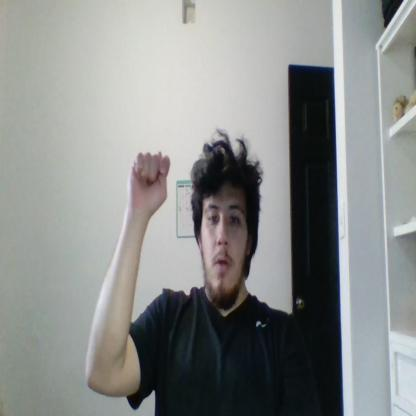T: (127, 150, 170, 218)
